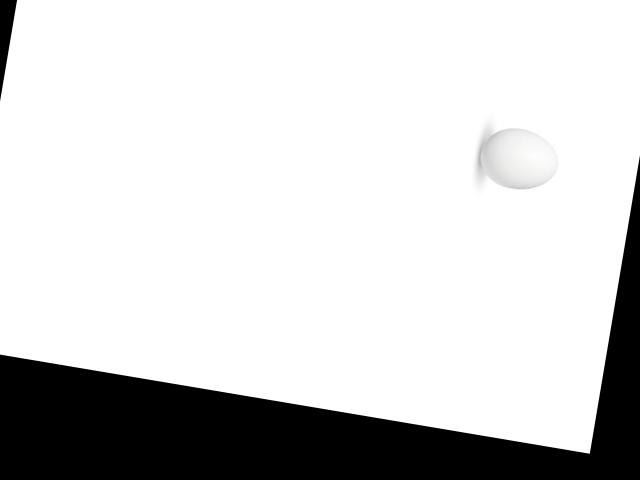egg: (476, 122, 563, 194)
